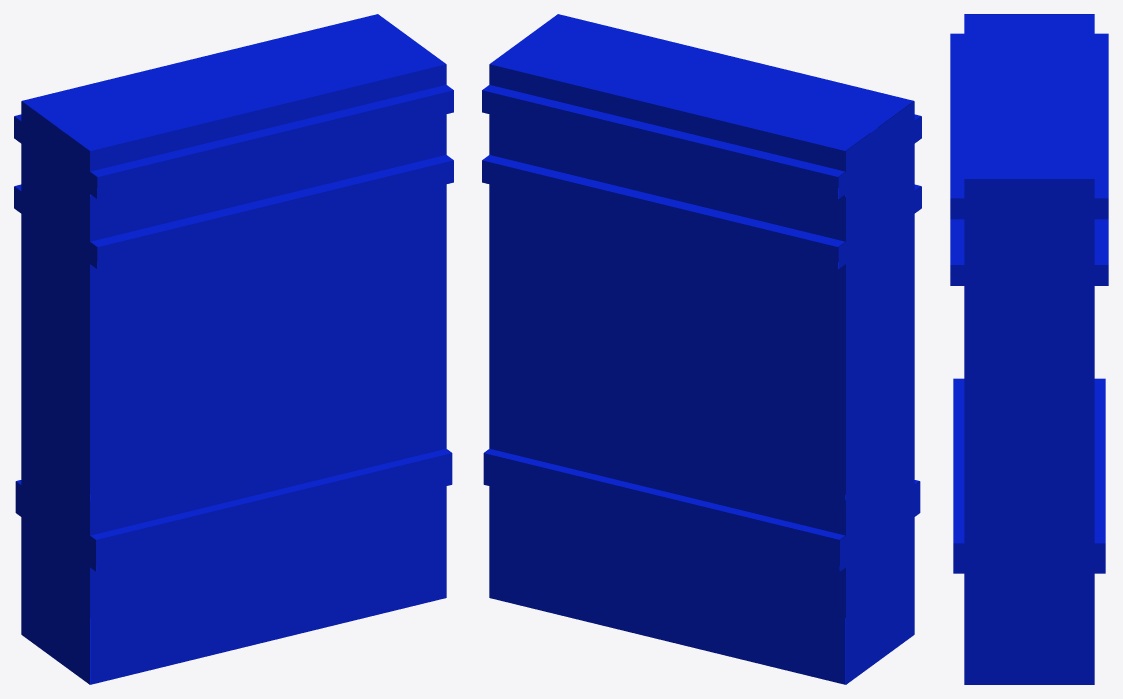
The model's file is MDL_E_TempleWall_03.fbx.
The picture shows the model from 3 angles, left to right: view 1: azimuth 30°, elevation 25°; view 2: azimuth 150°, elevation 25°; view 3: azimuth 270°, elevation 25°; orthographic projection. The views are drawn at different scales.
Visible parts, largest first — view 1: Cube.044; view 2: Cube.044; view 3: Cube.044.
Boxes of the visible parts, box(x1,y1,x2,y2) form: Cube.044: box(14, 14, 453, 684); Cube.044: box(482, 14, 921, 684); Cube.044: box(950, 14, 1108, 684).
Bounding box in the file's own units: 401 × 573 × 162.
